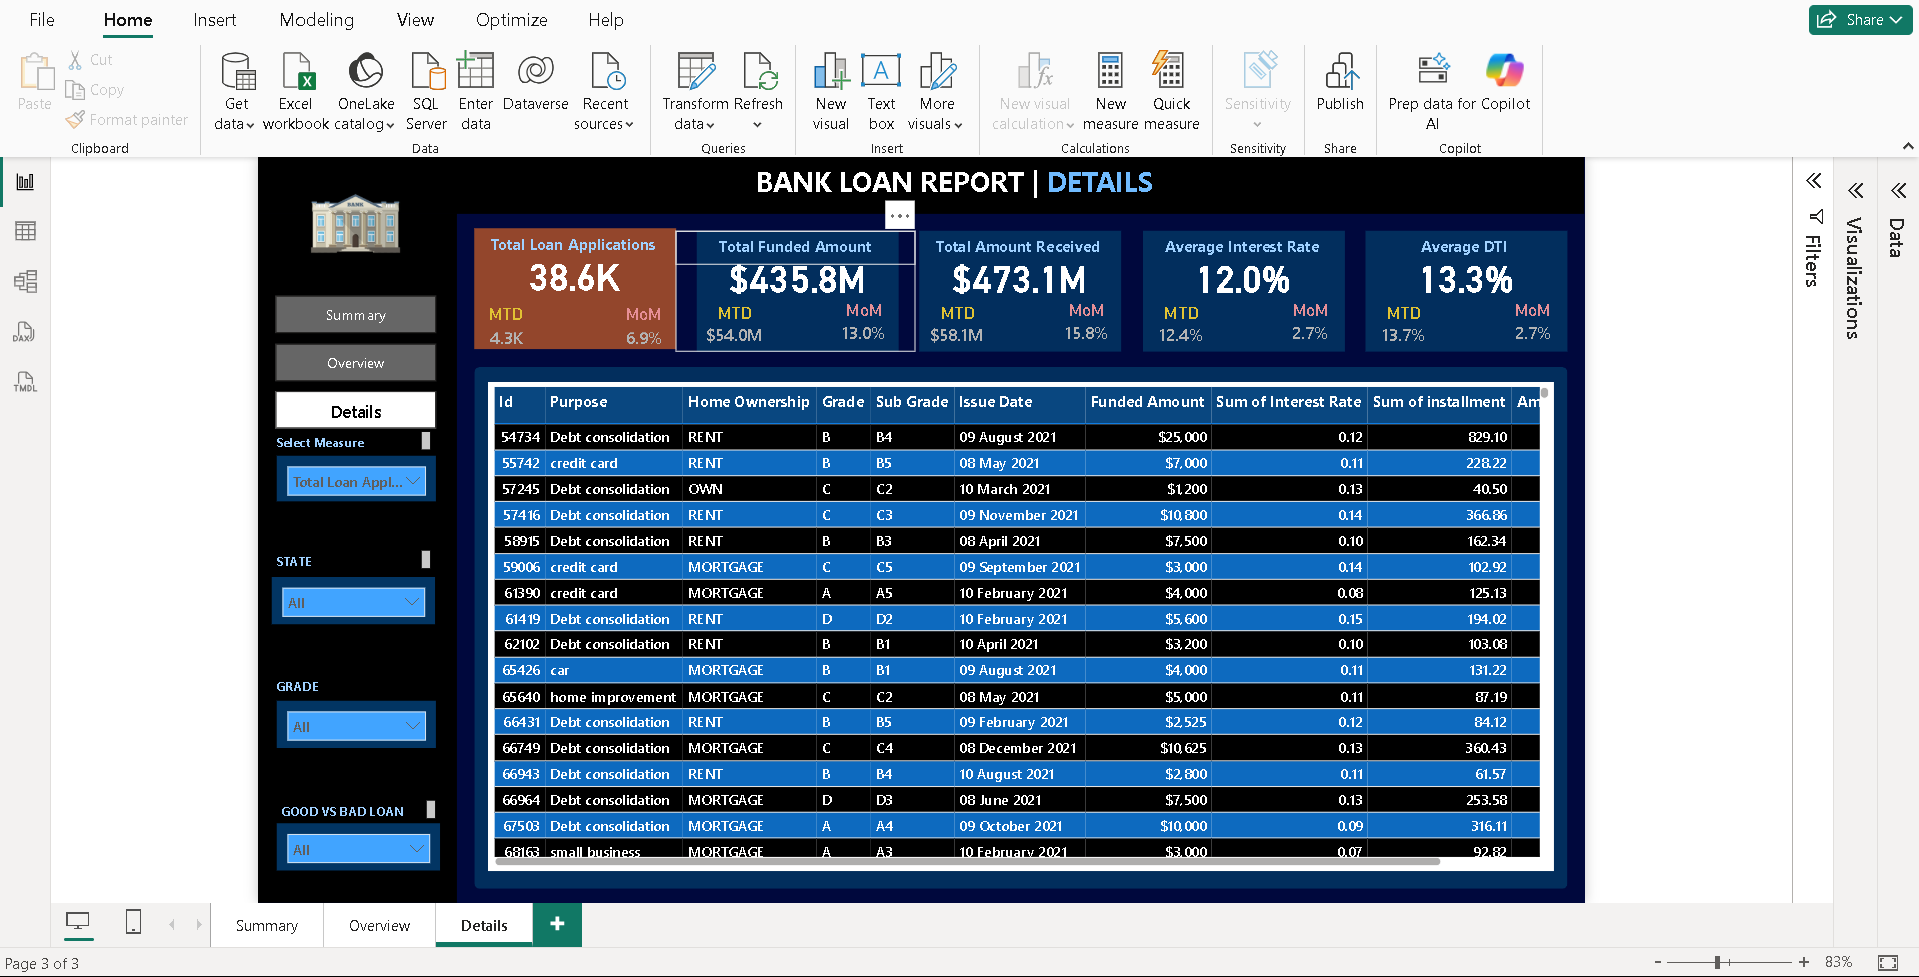

The dashboard page shown, as its layout file describes it:
{"tool":"powerbi","page":{"name":"Details","canvas":[1280,720],"ordinal":2},"visuals":[{"type":"shape","box":[0,54.9,192.1,665.5],"z":0},{"type":"shape","box":[208.6,68.6,194.9,116.6],"z":0,"group":"g1"},{"type":"shape","box":[423.7,71.4,194.9,116.6],"z":0,"group":"g2"},{"type":"shape","box":[638.8,71.4,194.9,116.6],"z":0,"group":"g3"},{"type":"shape","box":[853.9,71.4,194.9,116.6],"z":0,"group":"g4"},{"type":"shape","box":[1069,71.4,194.9,116.6],"z":0,"group":"g5"},{"type":"shape","box":[0,0,1280.3,54.9],"z":1000},{"type":"card","fields":{"Values":["financial_loan.Total Loan Application"]},"box":[230.5,80.9,150.9,64.5],"z":1000,"group":"g1"},{"type":"card","fields":{"Values":["financial_loan.Total Funded Amount"]},"box":[445.6,83.7,150.9,64.5],"z":1000,"group":"g2"},{"type":"card","fields":{"Values":["financial_loan.Total Amount Received"]},"box":[660.7,83.7,150.9,64.5],"z":1000,"group":"g3"},{"type":"card","fields":{"Values":["financial_loan.Avg Interest Rate"]},"box":[875.8,83.7,150.9,64.5],"z":1000,"group":"g4"},{"type":"card","fields":{"Values":["financial_loan.Avg DTI"]},"box":[1090.9,83.7,150.9,64.5],"z":1000,"group":"g5"},{"type":"textbox","box":[188,68.6,231.9,32.9],"z":2000,"group":"g1"},{"type":"textbox","box":[403.1,71.4,231.9,32.9],"z":2000,"group":"g2"},{"type":"textbox","box":[618.2,71.4,231.9,32.9],"z":2000,"group":"g3"},{"type":"textbox","box":[833.3,71.4,231.9,32.9],"z":2000,"group":"g4"},{"type":"textbox","box":[1048.4,71.4,231.9,32.9],"z":2000,"group":"g5"},{"type":"shape","box":[208.6,203.1,1055.2,503.6],"z":2000},{"type":"textbox","box":[419.9,0,505,50.8],"z":3000},{"type":"card","title":"MTD","fields":{"Values":["financial_loan.MTD Funded Amount"]},"box":[423.1,140,74.1,48],"z":3000,"group":"g2"},{"type":"card","title":"MTD","fields":{"Values":["financial_loan.MTD Total Amount Recieved"]},"box":[638.2,140,74.1,48],"z":3000,"group":"g3"},{"type":"card","title":"MTD","fields":{"Values":["financial_loan.MTD Average Int Rate"]},"box":[853.3,140,74.1,48],"z":3000,"group":"g4"},{"type":"card","title":"MTD","fields":{"Values":["financial_loan.MTD Average DTI"]},"box":[1068.4,140,74.1,48],"z":3000,"group":"g5"},{"type":"card","title":"MTD","fields":{"Values":["financial_loan.MTD Loan Application"]},"box":[208.6,141.3,61.7,43.9],"z":3000,"group":"g1"},{"type":"group","id":"g1","title":"Group 1","box":[188,68.6,231.9,116.6],"z":4000},{"type":"card","title":"MoM","fields":{"Values":["financial_loan.MoM Total Funded Amount"]},"box":[551.4,138.2,67.2,49.4],"z":4000,"group":"g2"},{"type":"card","title":"MoM","fields":{"Values":["financial_loan.MoM Total Amount Recieved"]},"box":[766.5,138.2,67.2,49.4],"z":4000,"group":"g3"},{"type":"card","title":"MoM","fields":{"Values":["financial_loan.MoM Avg Int Rate"]},"box":[981.6,138.2,67.2,49.4],"z":4000,"group":"g4"},{"type":"card","title":"MoM","fields":{"Values":["financial_loan.MoM Avg Int Rate"]},"box":[1196.7,138.2,67.2,49.4],"z":4000,"group":"g5"},{"type":"card","title":"MoM","fields":{"Values":["financial_loan.MoM Loan Application"]},"box":[341.7,141.3,61.7,43.9],"z":4000,"group":"g1"},{"type":"group","id":"g2","title":"Group 1","box":[403.1,71.4,231.9,116.7],"z":5000},{"type":"group","id":"g3","title":"Group 1","box":[618.2,71.4,231.9,116.6],"z":6000},{"type":"group","id":"g4","title":"Group 1","box":[833.3,71.4,231.9,116.6],"z":7000},{"type":"group","id":"g5","title":"Group 1","box":[1048.4,71.4,231.9,116.6],"z":8000},{"type":"textbox","box":[222.3,199,181.1,34.3],"z":9000},{"type":"slicer","fields":{"Values":["financial_loan.address_state"]},"box":[13.7,405.7,157.8,45.3],"z":10000},{"type":"slicer","fields":{"Values":["financial_loan.grade","financial_loan.purpose"]},"box":[17.8,524.6,153.7,45.3],"z":11000},{"type":"slicer","fields":{"Values":["financial_loan.Good vs Bad Loan"]},"box":[17.8,643.6,157.8,45.3],"z":12000},{"type":"textbox","box":[13.7,495.8,167.4,30.2],"z":13000},{"type":"textbox","box":[17.8,616.1,157.8,27.4],"z":14000},{"type":"slicer","fields":{"Values":["Select Measure.Select Measure"]},"box":[17.8,288.2,153.7,43.9],"z":15000},{"type":"textbox","box":[13.7,260.7,157.8,27.4],"z":16000},{"type":"textbox","box":[13.7,374.6,157.8,27.4],"z":17000},{"type":"tableEx","fields":{"Values":["financial_loan.id","financial_loan.purpose","financial_loan.home_ownership","financial_loan.grade","financial_loan.sub_grade","financial_loan.issue_date","financial_loan.Total Funded Amount","Sum(financial_loan.int_rate)","Sum(financial_loan.installment)","financial_loan.Total Amount Received"]},"box":[222.3,216.8,1029.2,472],"z":18000},{"type":"pageNavigator","box":[16.5,134.5,155.1,129],"z":19000},{"type":"image","box":[24.7,0,140,137.2],"z":20000}]}

Visuals, with their boxes on the page's 1280x720 design canvas (x1, y1, x2, y2). These are canvas units, not pixel positions in the 1919x977 screenshot, which may show the page scaled, cropped or inside an application window:
shape: (0, 55, 192, 720)
shape: (209, 69, 404, 185)
shape: (424, 71, 619, 188)
shape: (639, 71, 834, 188)
shape: (854, 71, 1049, 188)
shape: (1069, 71, 1264, 188)
shape: (0, 0, 1280, 55)
card - financial_loan.Total Loan Application: (230, 81, 381, 145)
card - financial_loan.Total Funded Amount: (446, 84, 596, 148)
card - financial_loan.Total Amount Received: (661, 84, 812, 148)
card - financial_loan.Avg Interest Rate: (876, 84, 1027, 148)
card - financial_loan.Avg DTI: (1091, 84, 1242, 148)
textbox: (188, 69, 420, 102)
textbox: (403, 71, 635, 104)
textbox: (618, 71, 850, 104)
textbox: (833, 71, 1065, 104)
textbox: (1048, 71, 1280, 104)
shape: (209, 203, 1264, 707)
textbox: (420, 0, 925, 51)
"MTD" card: (423, 140, 497, 188)
"MTD" card: (638, 140, 712, 188)
"MTD" card: (853, 140, 927, 188)
"MTD" card: (1068, 140, 1142, 188)
"MTD" card: (209, 141, 270, 185)
"Group 1" group: (188, 69, 420, 185)
"MoM" card: (551, 138, 619, 188)
"MoM" card: (766, 138, 834, 188)
"MoM" card: (982, 138, 1049, 188)
"MoM" card: (1197, 138, 1264, 188)
"MoM" card: (342, 141, 403, 185)
"Group 1" group: (403, 71, 635, 188)
"Group 1" group: (618, 71, 850, 188)
"Group 1" group: (833, 71, 1065, 188)
"Group 1" group: (1048, 71, 1280, 188)
textbox: (222, 199, 403, 233)
slicer - financial_loan.address_state: (14, 406, 172, 451)
slicer - financial_loan.grade x financial_loan.purpose: (18, 525, 172, 570)
slicer - financial_loan.Good vs Bad Loan: (18, 644, 176, 689)
textbox: (14, 496, 181, 526)
textbox: (18, 616, 176, 644)
slicer - Select Measure.Select Measure: (18, 288, 172, 332)
textbox: (14, 261, 172, 288)
textbox: (14, 375, 172, 402)
tableEx - financial_loan.id x financial_loan.purpose: (222, 217, 1252, 689)
pageNavigator: (16, 134, 172, 264)
image: (25, 0, 165, 137)
